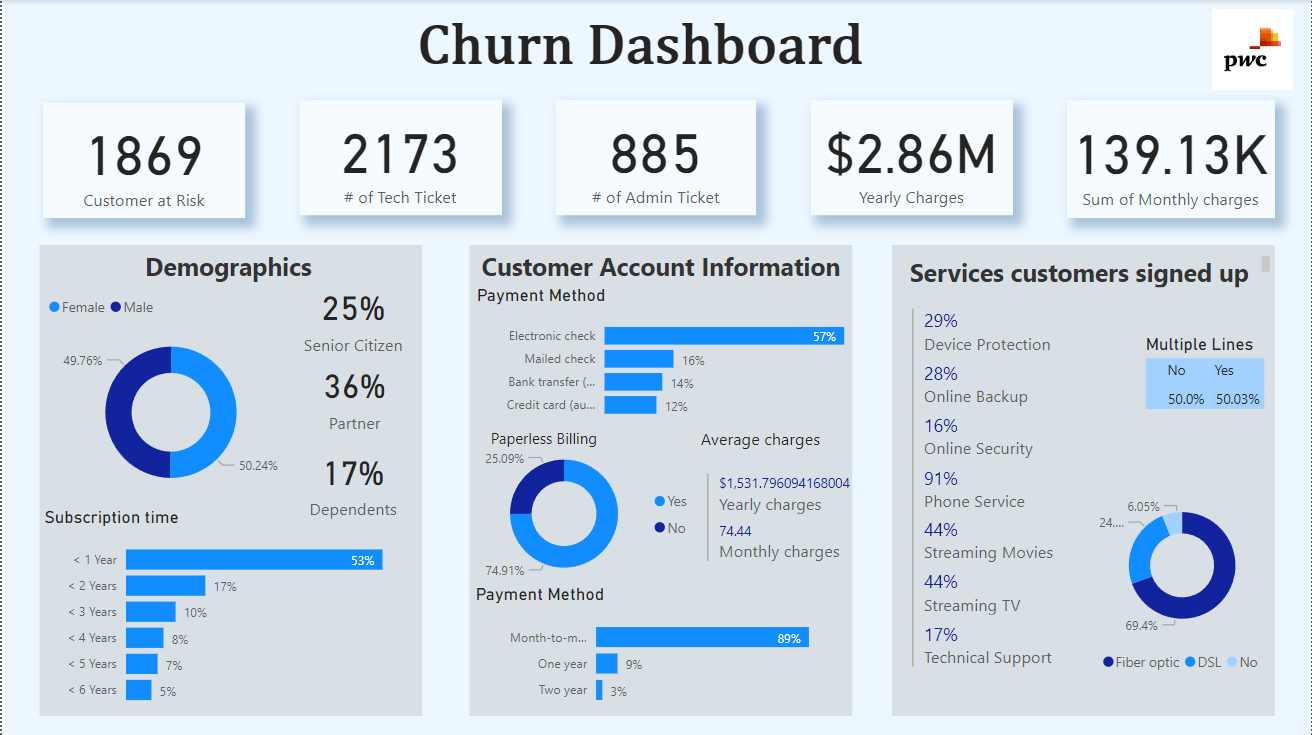

This screenshot's page, from the dashboard's own definition file:
{"tool":"powerbi","page":{"name":"Churn","canvas":[1280,720],"ordinal":1},"visuals":[{"type":"card","fields":{"Values":["CountNonNull(modified.customerID)"]},"box":[40.3,100.1,197.4,112.6],"z":0},{"type":"card","fields":{"Values":["Sum(modified.numTechTickets)"]},"box":[290.9,97.3,197.4,112.6],"z":1000},{"type":"card","fields":{"Values":["Sum(modified.numAdminTickets)"]},"box":[541.4,97.3,196,112.6],"z":2000},{"type":"card","fields":{"Values":["Sum(modified.TotalCharges)"]},"box":[790.6,97.3,197.4,112.6],"z":3000},{"type":"card","fields":{"Values":["Sum(modified.MonthlyCharges)"]},"box":[1041.2,97.3,203,115.4],"z":4000},{"type":"textbox","box":[275.2,9.7,697.8,77.8],"z":5000},{"type":"image","box":[1178.8,0,89,97.3],"z":6000},{"type":"shape","box":[36.1,239.4,374.3,460.6],"z":7000},{"type":"shape","box":[456.9,239.6,374.3,460.6],"z":8000},{"type":"shape","box":[870,239.4,374.3,460.6],"z":9000},{"type":"textbox","box":[33.9,239.6,374.3,64.2],"z":10000},{"type":"textbox","box":[456.9,239.6,374.3,86.4],"z":11000},{"type":"textbox","box":[870,246.1,374.3,39.9],"z":12000},{"type":"donutChart","fields":{"Category":["modified.gender"],"Y":["CountNonNull(modified.gender)"]},"box":[40.6,279.5,250.2,217],"z":13000},{"type":"card","fields":{"Values":["modified.senior citizen in %"]},"box":[273.5,260,139.8,99.8],"z":14000},{"type":"card","fields":{"Values":["modified.partner in %"]},"box":[275.7,342.1,137.5,88.7],"z":15000},{"type":"card","fields":{"Values":["modified.dependents in %"]},"box":[273.5,430.8,139.8,82.1],"z":16000},{"type":"clusteredBarChart","title":"Subscription time","fields":{"Category":["01 Churn pivot.Loyality"],"Y":["CountNonNull(01 Churn pivot.Churn)"],"Series":["01 Churn pivot.Churn"]},"box":[36.1,495.5,371.4,205.6],"z":17000},{"type":"clusteredBarChart","title":"Payment Method","fields":{"Category":["modified.PaymentMethod"],"Y":["CountNonNull(modified.Churn)"]},"box":[459.5,278.2,397.9,140.9],"z":18000},{"type":"donutChart","fields":{"Category":["modified.PaperlessBilling"],"Y":["CountNonNull(modified.PaperlessBilling)"]},"box":[457.7,419.7,226.3,166.4],"z":19000},{"type":"textbox","box":[473.2,413,301.7,39.9],"z":20000},{"type":"textbox","box":[678.8,412.6,301.7,42.1],"z":21000},{"type":"multiRowCard","fields":{"Values":["Avg(modified.TotalCharges)","Avg(modified.MonthlyCharges)"]},"box":[684.3,458.2,149.7,102.1],"z":22000},{"type":"clusteredBarChart","title":"Payment Method","fields":{"Category":["modified.Contract"],"Y":["CountNonNull(modified.Contract)"]},"box":[458.9,570.9,366.2,130.3],"z":23000},{"type":"multiRowCard","fields":{"Values":["modified.device protection in %","modified.Online backup in %","modified.Online security in percentage","modified.phone service in %","modified.streaming movies in %","modified.streaming tv in %","modified.tech support in %"]},"box":[885.5,297,186,398.6],"z":24000},{"type":"pivotTable","title":"Multiple Lines","fields":{"Values":["modified.multiple line no in %","modified.multiple lines yes in %"]},"box":[1113.6,325.8,130.7,93],"z":25000},{"type":"donutChart","fields":{"Category":["modified.InternetService"],"Y":["CountNonNull(modified.InternetService)"]},"box":[1065.2,468.9,179.1,196.8],"z":26000}]}

Visuals, with their boxes in screenshot pixels (x1, y1, x2, y2), scaled from the page's 1280x720 canvas onto the 1312x735 screenshot:
card - CountNonNull(modified.customerID): (41, 102, 244, 217)
card - Sum(modified.numTechTickets): (298, 99, 501, 214)
card - Sum(modified.numAdminTickets): (555, 99, 756, 214)
card - Sum(modified.TotalCharges): (810, 99, 1013, 214)
card - Sum(modified.MonthlyCharges): (1067, 99, 1275, 217)
textbox: (282, 10, 997, 89)
image: (1208, 0, 1299, 99)
shape: (37, 244, 421, 715)
shape: (468, 245, 852, 715)
shape: (892, 244, 1275, 715)
textbox: (35, 245, 418, 310)
textbox: (468, 245, 852, 333)
textbox: (892, 251, 1275, 292)
donutChart - modified.gender x CountNonNull(modified.gender): (42, 285, 298, 507)
card - modified.senior citizen in %: (280, 265, 424, 367)
card - modified.partner in %: (283, 349, 424, 440)
card - modified.dependents in %: (280, 440, 424, 524)
"Subscription time" clusteredBarChart: (37, 506, 418, 716)
"Payment Method" clusteredBarChart: (471, 284, 879, 428)
donutChart - modified.PaperlessBilling x CountNonNull(modified.PaperlessBilling): (469, 428, 701, 598)
textbox: (485, 422, 794, 462)
textbox: (696, 421, 1005, 464)
multiRowCard - Avg(modified.TotalCharges) x Avg(modified.MonthlyCharges): (701, 468, 855, 572)
"Payment Method" clusteredBarChart: (470, 583, 846, 716)
multiRowCard - modified.device protection in % x modified.Online backup in %: (908, 303, 1098, 710)
"Multiple Lines" pivotTable: (1141, 333, 1275, 428)
donutChart - modified.InternetService x CountNonNull(modified.InternetService): (1092, 479, 1275, 680)
